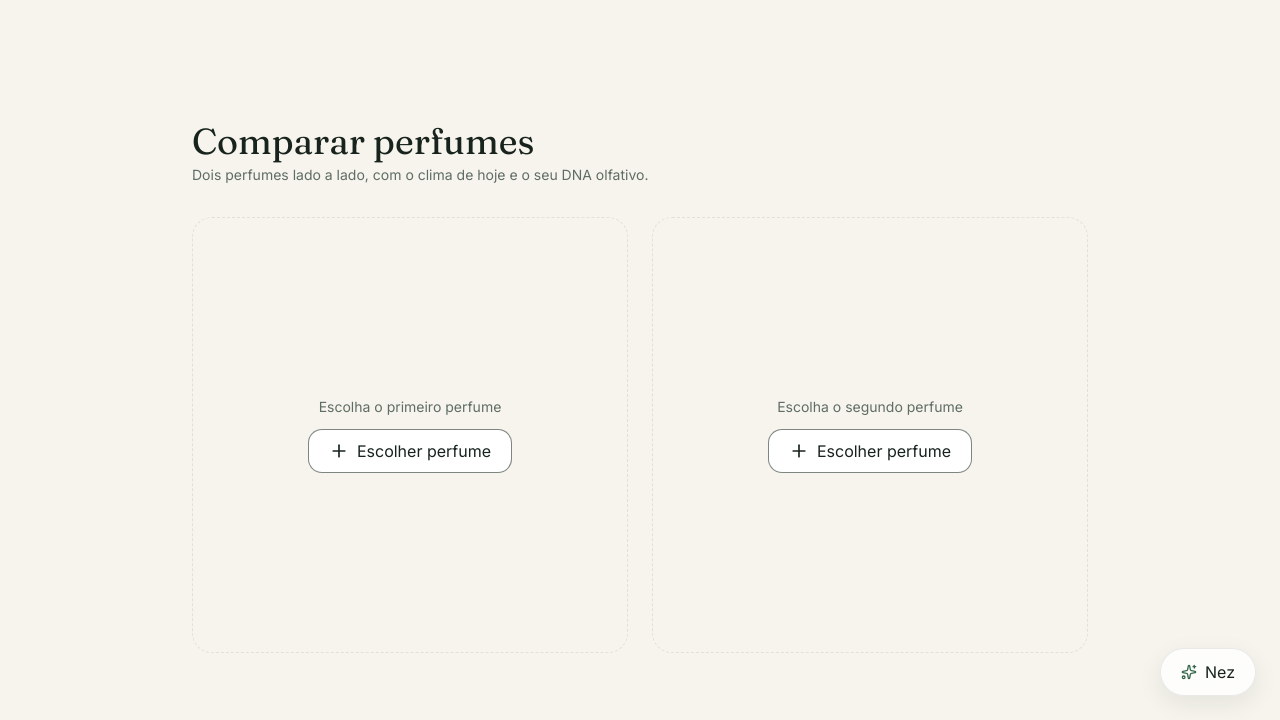
Test case: ComparePage (Fase 18B) › escolher e trocar › falha na busca mostra o erro com tentar de novo
Click the button "Escolher perfume" below "primeiro".
click(410, 451)  # box [308, 429, 512, 473]
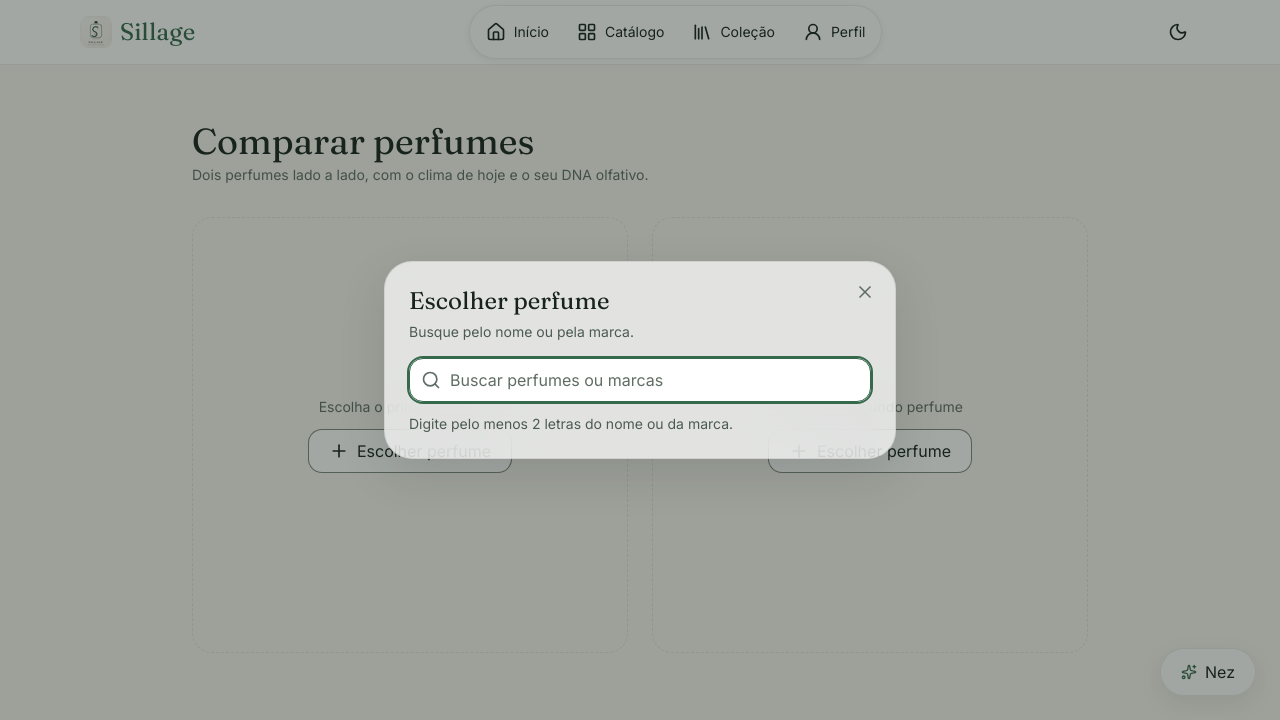
Type "bo" into the search field.
click(640, 380); type("bo")  # box [409, 358, 871, 402]
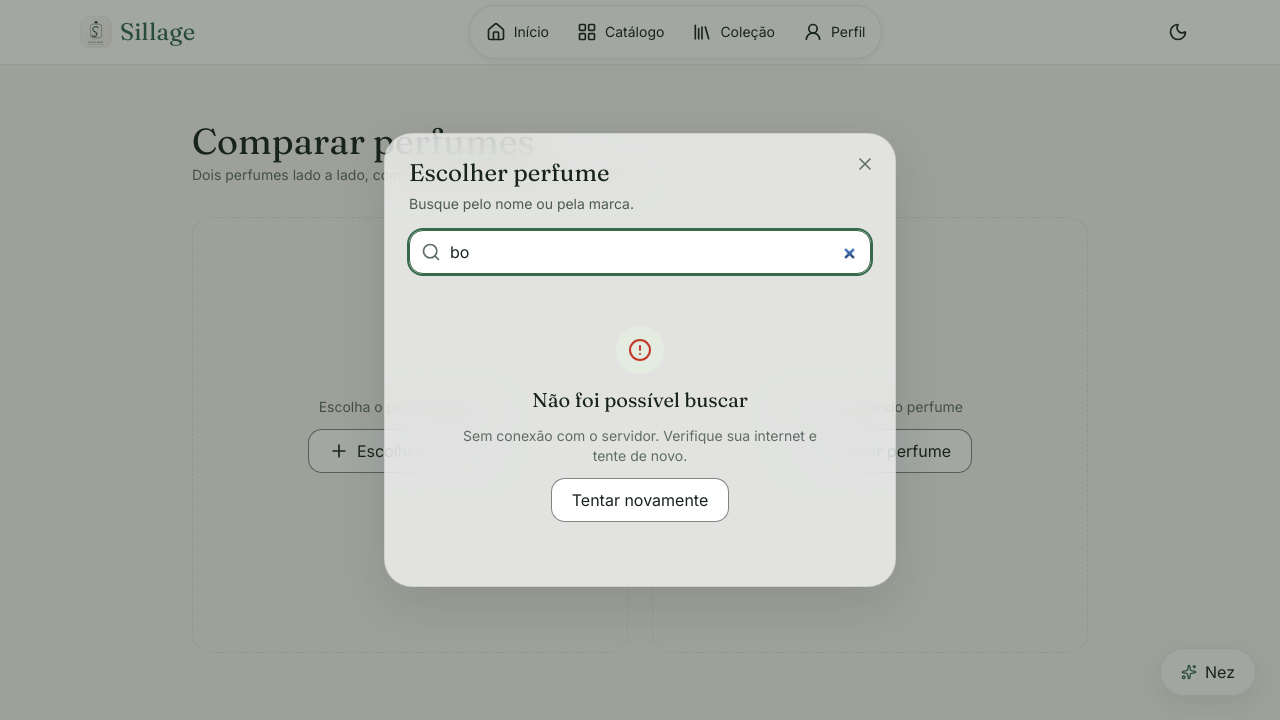
Now the heading "Não foi possível buscar" is shown, box [532, 386, 748, 414]
Click the button "Tentar novamente".
click(640, 500)  # box [551, 478, 729, 522]
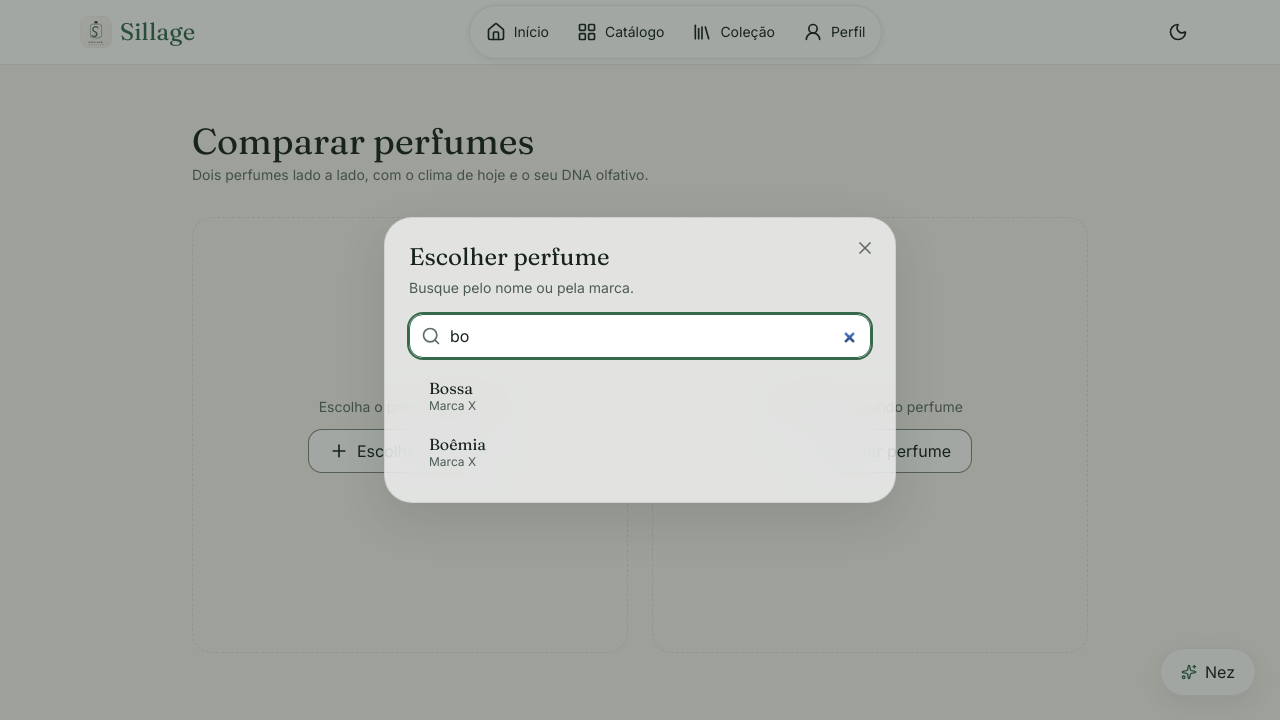
Now the list named "Resultados" is shown, box [409, 370, 871, 478]
